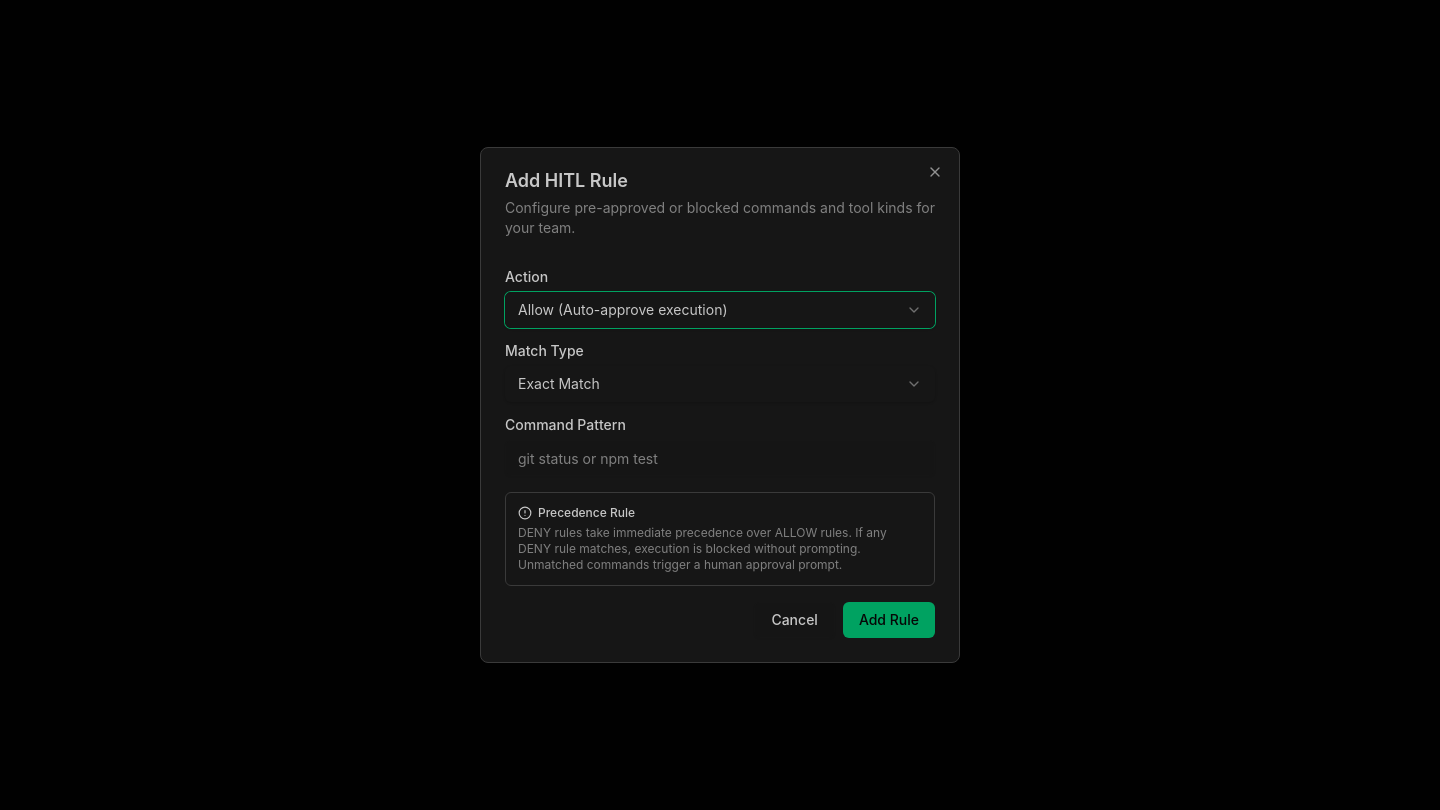
Test: CreateHitlRuleDialog › validates empty command pattern
Click the button "Add Rule" at {"x": 889, "y": 620}, box [843,602,935,638]
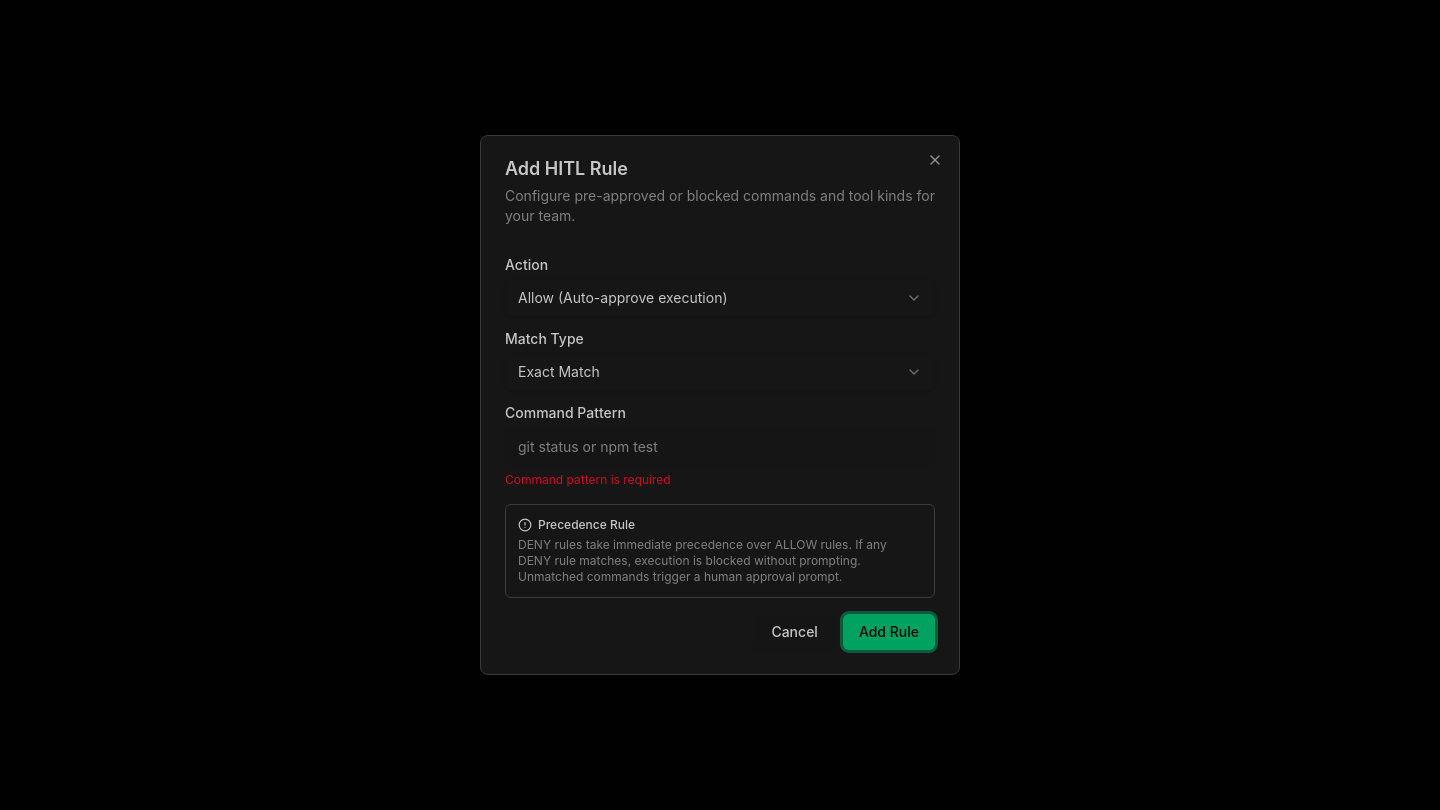
Result: the text "Command pattern is required" is shown at [505,472,671,487]
